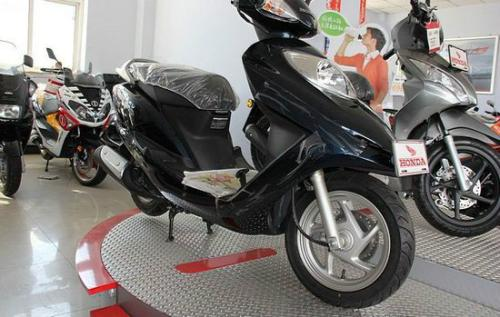motor: (120, 6, 417, 310), (32, 42, 112, 187)
